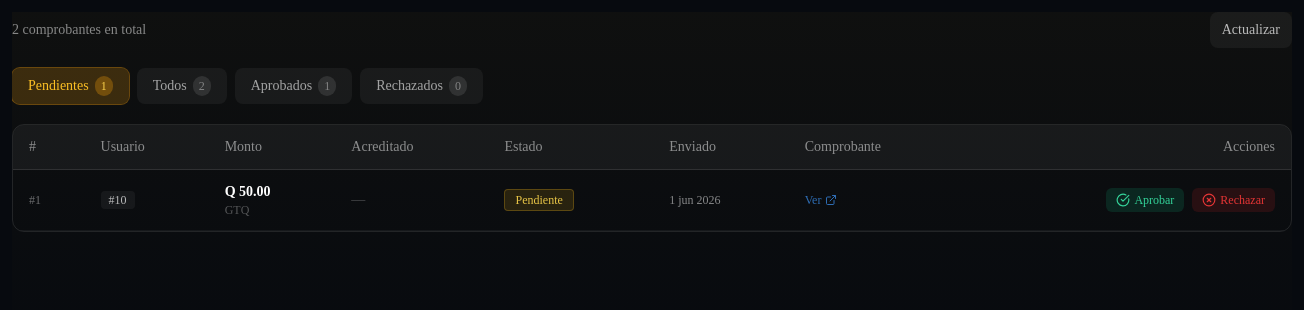
Test: BankTransfersTab – with pending transfers › switches to all tab and shows both transfers
Check: the text "#1" is shown, box [13, 170, 84, 230]
Click the button "Todos 2" at (182, 86), box [137, 68, 227, 104]
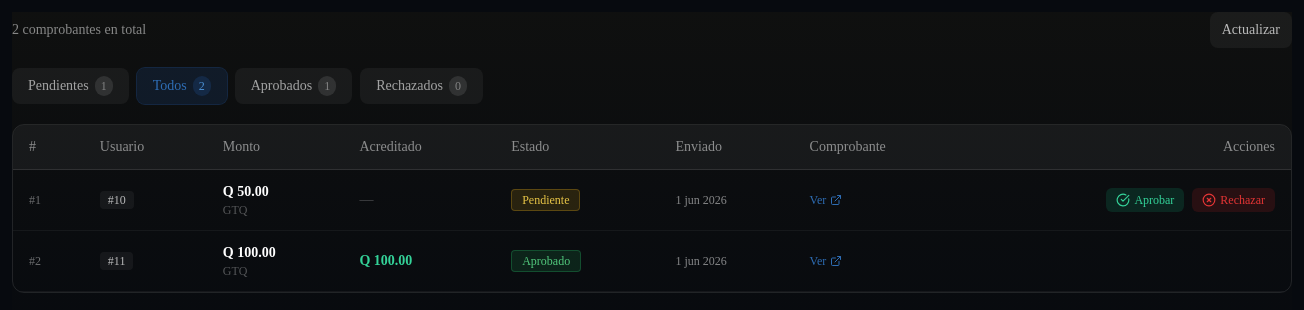
Check: the text "#2" is shown, box [13, 230, 84, 292]
